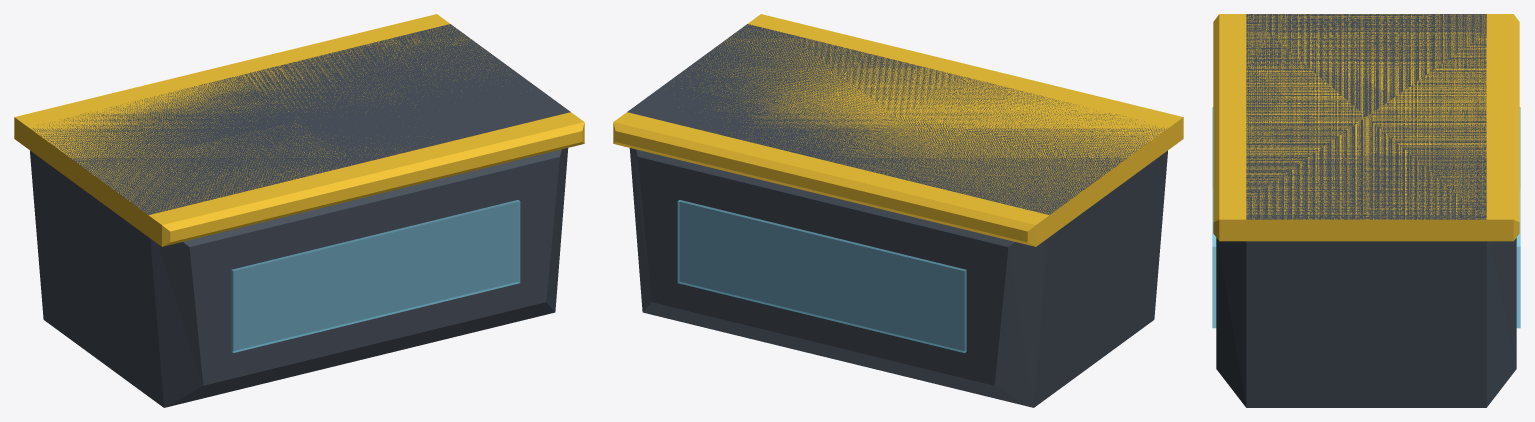
Rendered from hopper_box.glb.
The picture shows the model from 3 angles, left to right: view 1: azimuth 30°, elevation 25°; view 2: azimuth 150°, elevation 25°; view 3: azimuth 270°, elevation 25°; orthographic projection.
Parts seen in each view (by area): view 1: hopper_box; view 2: hopper_box; view 3: hopper_box.
Boxes of the visible parts, x1=… form: hopper_box: x1=14, y1=14, x2=584, y2=407; hopper_box: x1=613, y1=14, x2=1183, y2=407; hopper_box: x1=1212, y1=14, x2=1520, y2=407.
Bounding box in the file's own units: 0.162 × 0.072 × 0.1027.
